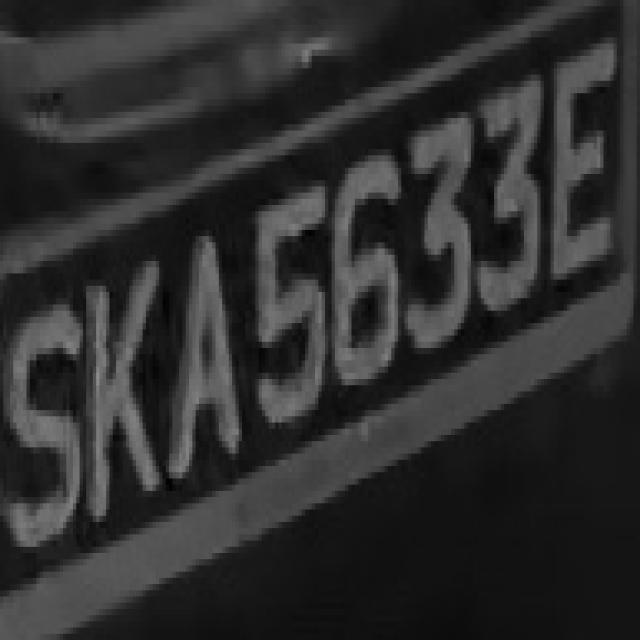3: (404, 68, 478, 386), (484, 62, 551, 342)
5: (245, 193, 338, 416)
6: (332, 130, 401, 404)
A: (162, 236, 245, 485)
E: (554, 25, 636, 261)
K: (80, 255, 166, 522)
S: (10, 298, 83, 541)
